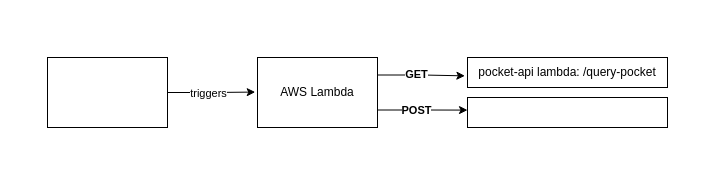
Some shapes in this 714 by 184 pixel diagram are drawn without their labels. The shapes that lost their labels are listed below. From the top down, each one's box as (x1, y1, x2, y2) in pixels, then its label:
(46, 56, 168, 128): AWS EventBridge timer
(466, 96, 668, 128): gsheet-utils lambda: /update-sheet
